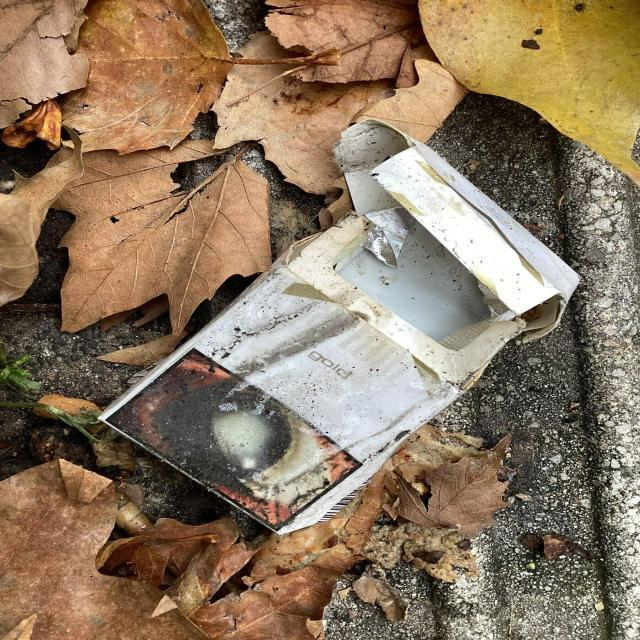Paper: (86, 112, 584, 542)
